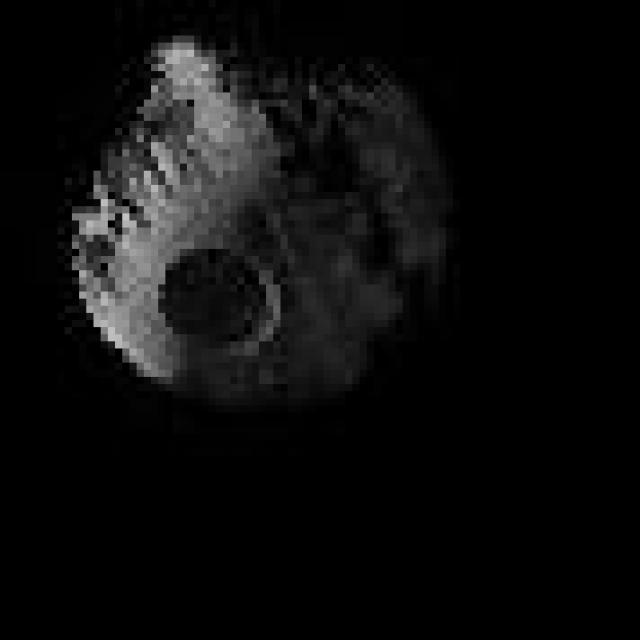Death Star: (51, 14, 460, 420)
